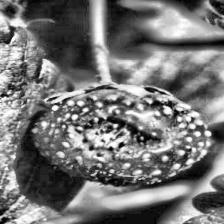Anthracnose Fruit Rot: (56, 115, 176, 163)
